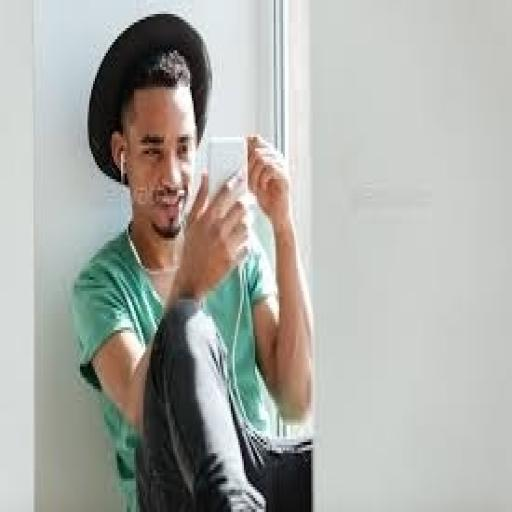texting: (69, 11, 316, 509)
